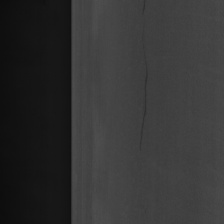inclusion: (134, 4, 155, 159)
